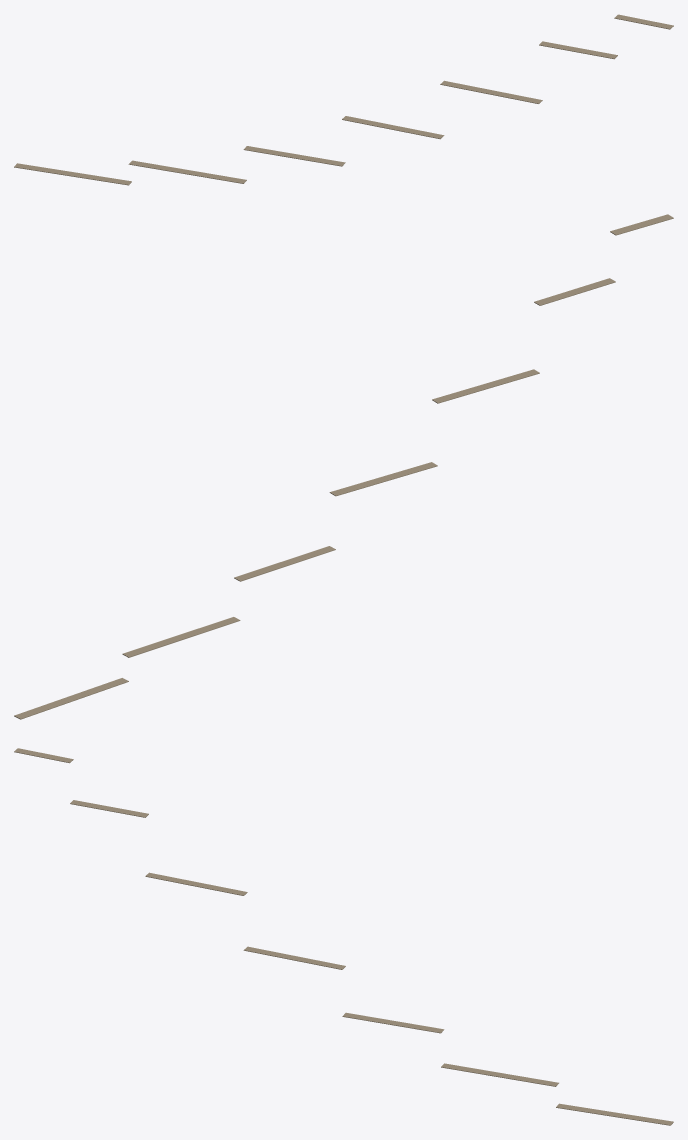
The model's file is Castalla_Roads_1244_v1.glb.
The picture shows the model from 3 angles, top to bottom: view 1: azimuth 90°, elevation 25°; view 2: azimuth 150°, elevation 25°; view 3: azimuth 270°, elevation 25°; orthographic projection. The views are drawn at different scales.
Parts seen in each view (by area): view 1: world; view 2: world; view 3: world.
Boxes of the visible parts, x1,y1,x2,y2 form: world: (14,14,673,185); world: (14,214,673,719); world: (14,748,673,1125).
Bounding box in the file's own units: 87.58 × 86.14 × 201.
